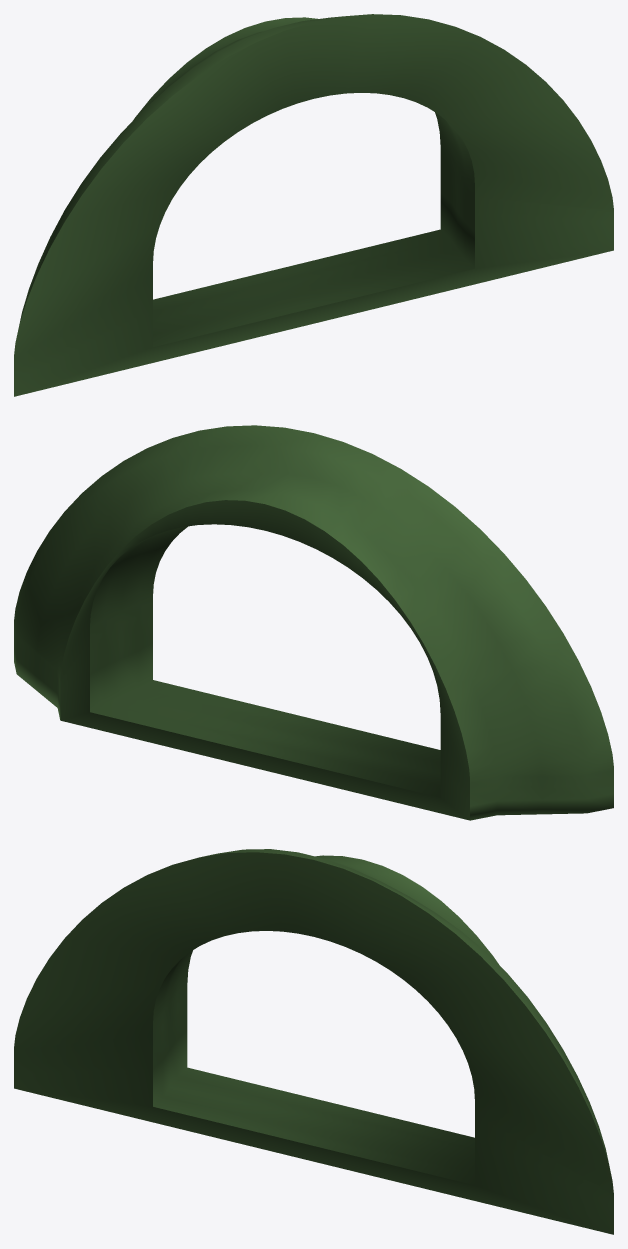
Rendered from portal_exit_terrain_lod1.glb.
3 views of the same model, one above another, from view 1: azimuth 30°, elevation 25°; view 2: azimuth 150°, elevation 25°; view 3: azimuth 330°, elevation 25° (orthographic).
Parts seen in each view (by area): view 1: TerrainRoof.003; view 2: TerrainRoof.003; view 3: TerrainRoof.003.
Part boxes in pixels (x1,y1,x2,y2): TerrainRoof.003: [14, 14, 613, 396]; TerrainRoof.003: [14, 425, 613, 820]; TerrainRoof.003: [14, 849, 613, 1234].
Size of the model in its own units: 28.4 by 13.65 by 4.
